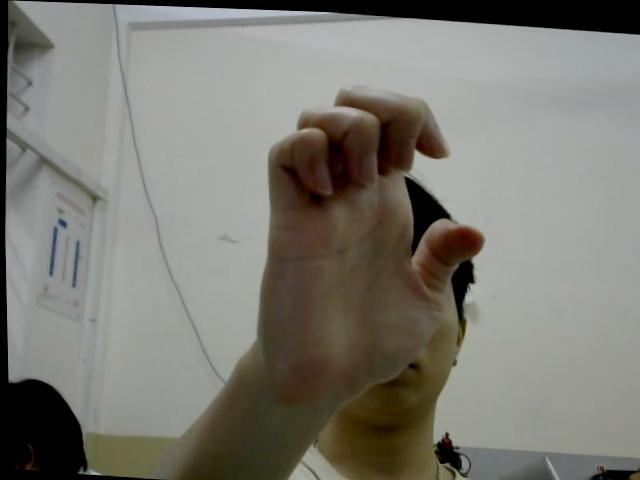E: (250, 72, 495, 419)
